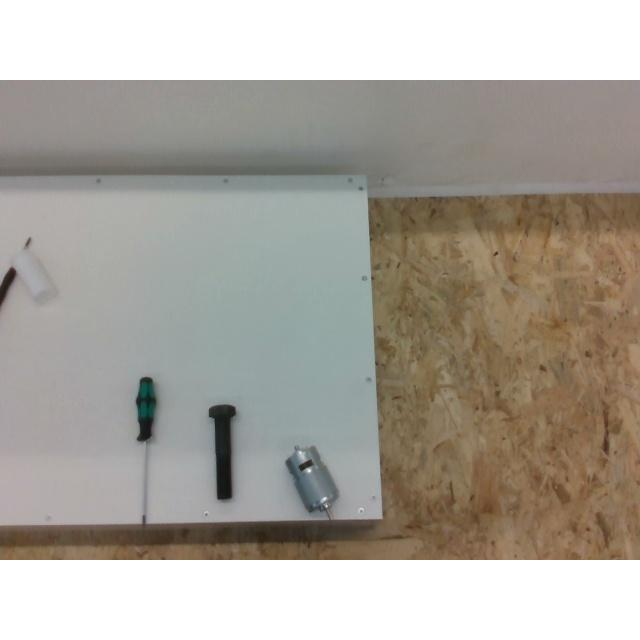M20_100: (208, 404, 236, 500)
Motor2: (286, 446, 338, 518)
Screwdriver: (136, 377, 156, 523)
Spacer: (12, 245, 56, 302)
